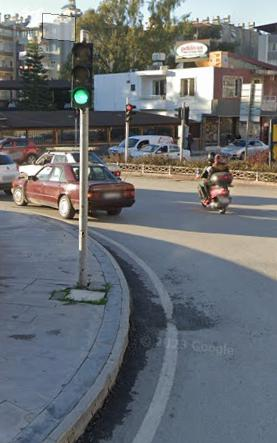greenlight: (72, 43, 93, 105)
